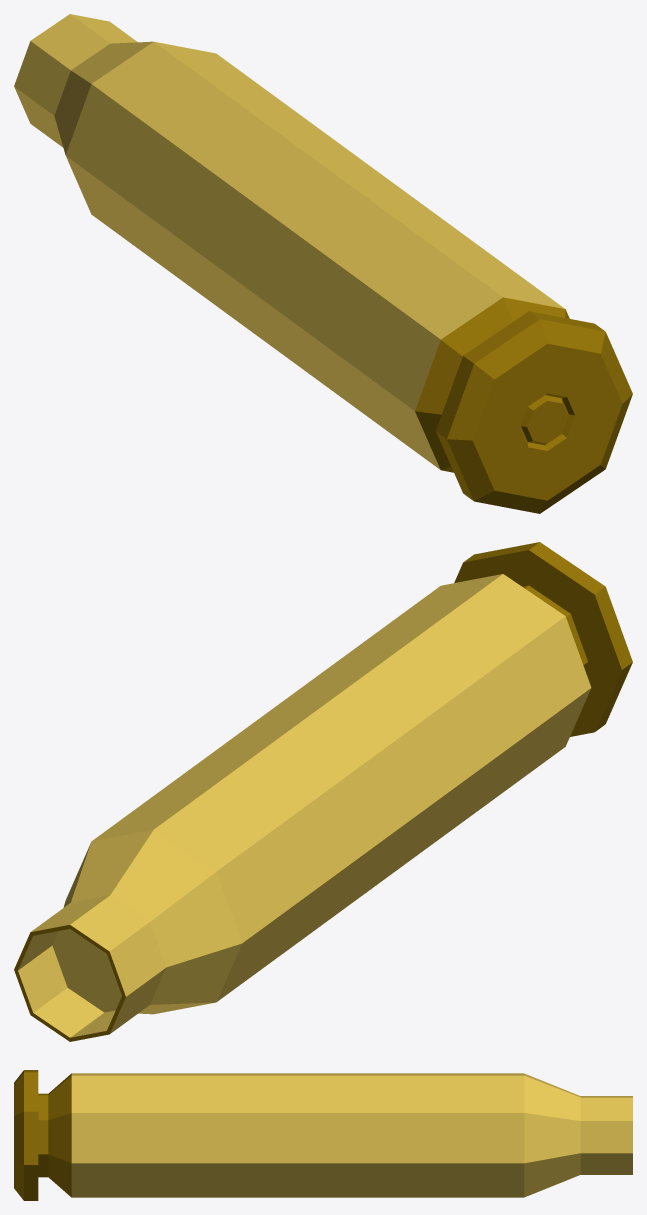
Rendered from Casing Coloured.fbx.
The picture shows the model from 3 angles, top to bottom: view 1: azimuth 30°, elevation 25°; view 2: azimuth 150°, elevation 25°; view 3: azimuth 270°, elevation 25°; orthographic projection. The views are drawn at different scales.
Visible parts, largest first — view 1: Casing:pCylinder5; view 2: Casing:pCylinder5; view 3: Casing:pCylinder5.
Boxes of the visible parts, x1,y1,x2,y2 form: Casing:pCylinder5: [14, 14, 632, 513]; Casing:pCylinder5: [14, 542, 632, 1041]; Casing:pCylinder5: [14, 1070, 632, 1200].
Bounding box in the file's own units: 2.63 × 2.63 × 11.71.
